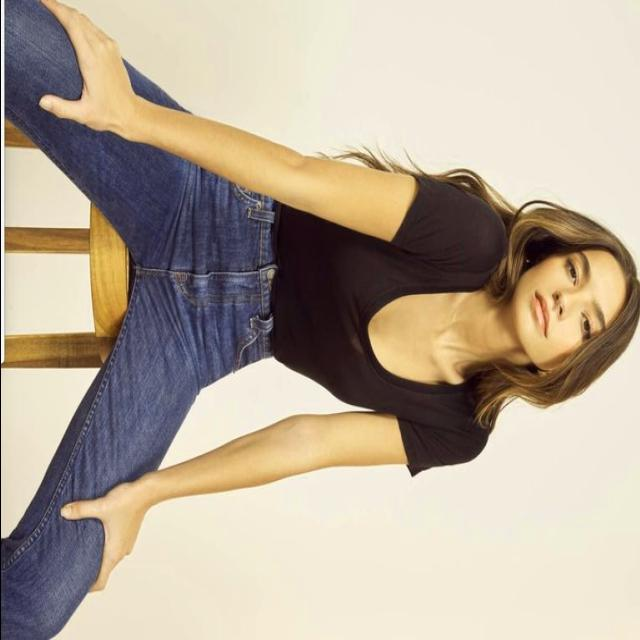shoulder: (408, 174, 506, 470)
